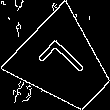L_SE: (36, 36, 93, 94)
